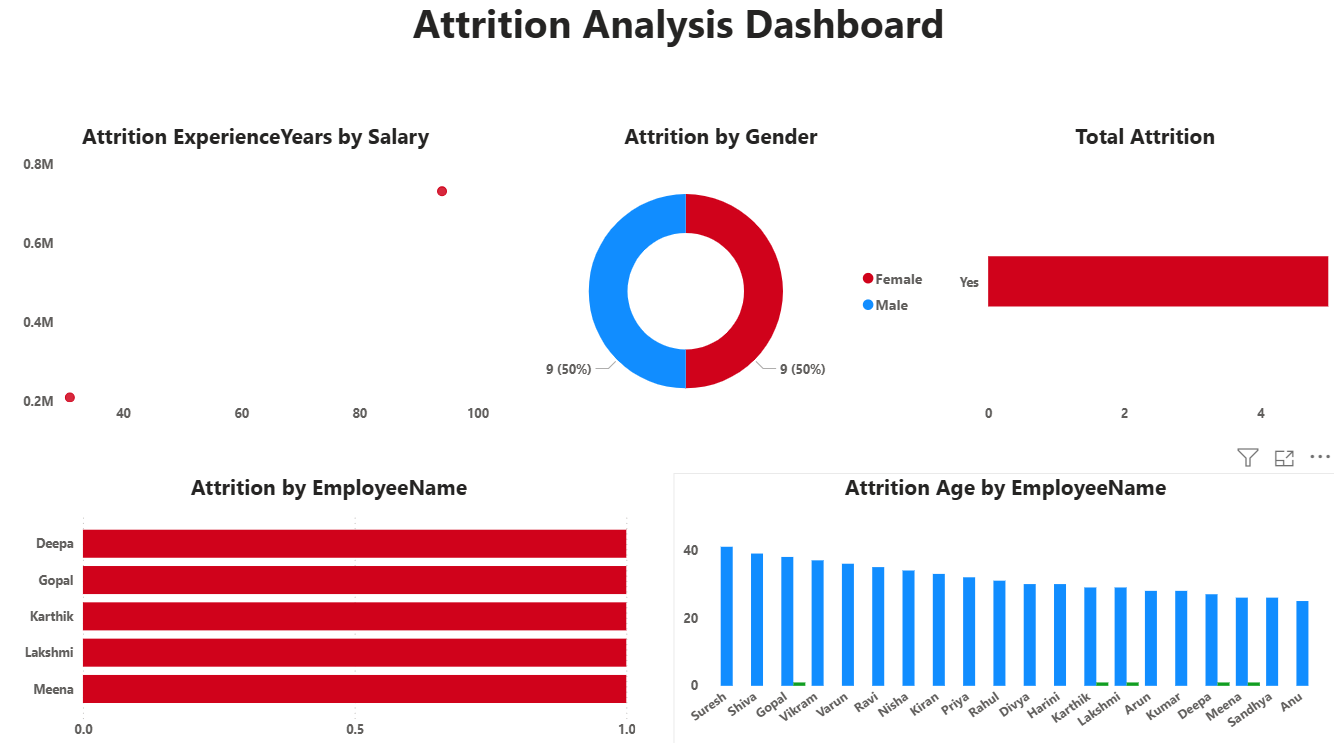

This screenshot's page, from the dashboard's own definition file:
{"tool":"powerbi","page":{"name":"AttritionDashboard","canvas":[1280,720],"ordinal":2},"visuals":[{"type":"clusteredBarChart","title":"Attrition by EmployeeName","fields":{"Category":["Employees.EmployeeName"],"Y":["Attrition.Attrition"]},"box":[28.3,458.5,591.2,261.5],"z":0},{"type":"donutChart","title":"Attrition by Gender","fields":{"Y":["Employees.female count"],"Category":["Employees.Gender","Attrition.Attrition"]},"box":[490.7,124.9,410.9,294.9],"z":1000},{"type":"clusteredColumnChart","title":"Attrition Age by EmployeeName","fields":{"Y":["Employees.Age","Attrition.Attrition Rate"],"Category":["Employees.EmployeeName"]},"box":[650.4,458.5,629.8,261.5],"z":2000},{"type":"clusteredBarChart","title":"Total Attrition","fields":{"Category":["Attrition.Attrition"],"Y":["Attrition.total_attrition"]},"box":[915.8,124.9,364.5,294.9],"z":3000},{"type":"scatterChart","title":"Attrition ExperienceYears by Salary","fields":{"X":["Employees.ExperienceYears"],"Y":["Employees.Salary"],"Category":["Attrition.Attrition"]},"box":[28.3,124.9,452.1,294.9],"z":4000},{"type":"textbox","box":[285.1,0,741.9,71.8],"z":5000}]}

Visuals, with their boxes in screenshot pixels (x1, y1, x2, y2), scaled from the page's 1280x720 canvas onto the 1334x743 screenshot:
"Attrition by EmployeeName" clusteredBarChart: 29 473 646 742
"Attrition by Gender" donutChart: 511 129 940 433
"Attrition Age by EmployeeName" clusteredColumnChart: 678 473 1333 742
"Total Attrition" clusteredBarChart: 954 129 1333 433
"Attrition ExperienceYears by Salary" scatterChart: 29 129 501 433
textbox: 297 0 1070 74
